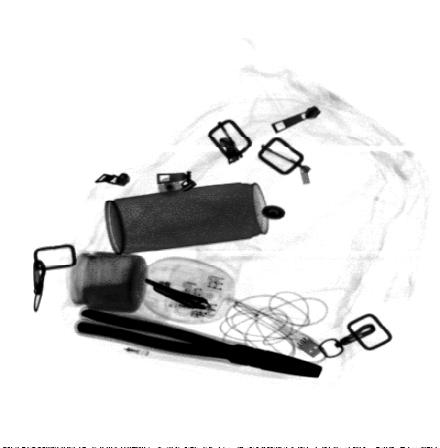Pliers: (72, 304, 325, 379)
